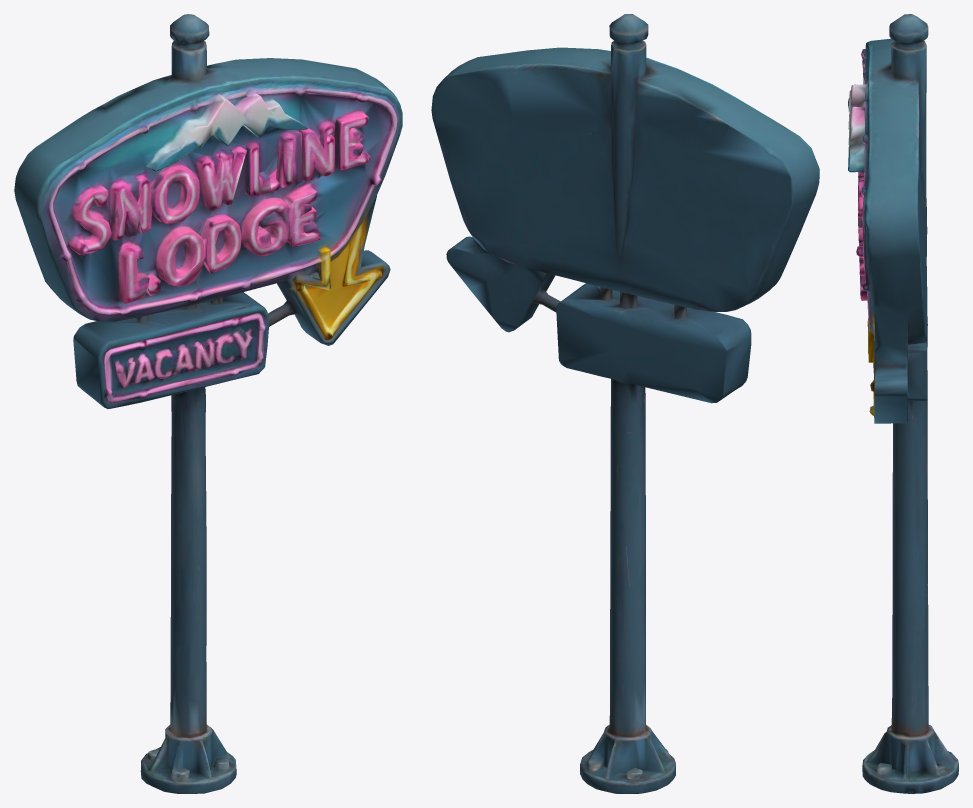
Rendered from motelsign.glb.
The picture shows the model from 3 angles, left to right: view 1: azimuth 30°, elevation 25°; view 2: azimuth 150°, elevation 25°; view 3: azimuth 270°, elevation 25°; orthographic projection.
Parts seen in each view (by area): view 1: motelsign-node; view 2: motelsign-node; view 3: motelsign-node.
Boxes of the visible parts, box(x1,y1,x2,y2) form: motelsign-node: box(14, 14, 402, 793); motelsign-node: box(431, 14, 819, 793); motelsign-node: box(848, 14, 958, 793).
Bounding box in the file's own units: 0.5075 × 1 × 0.1327.
Materials: 1 (1 with a texture image).
